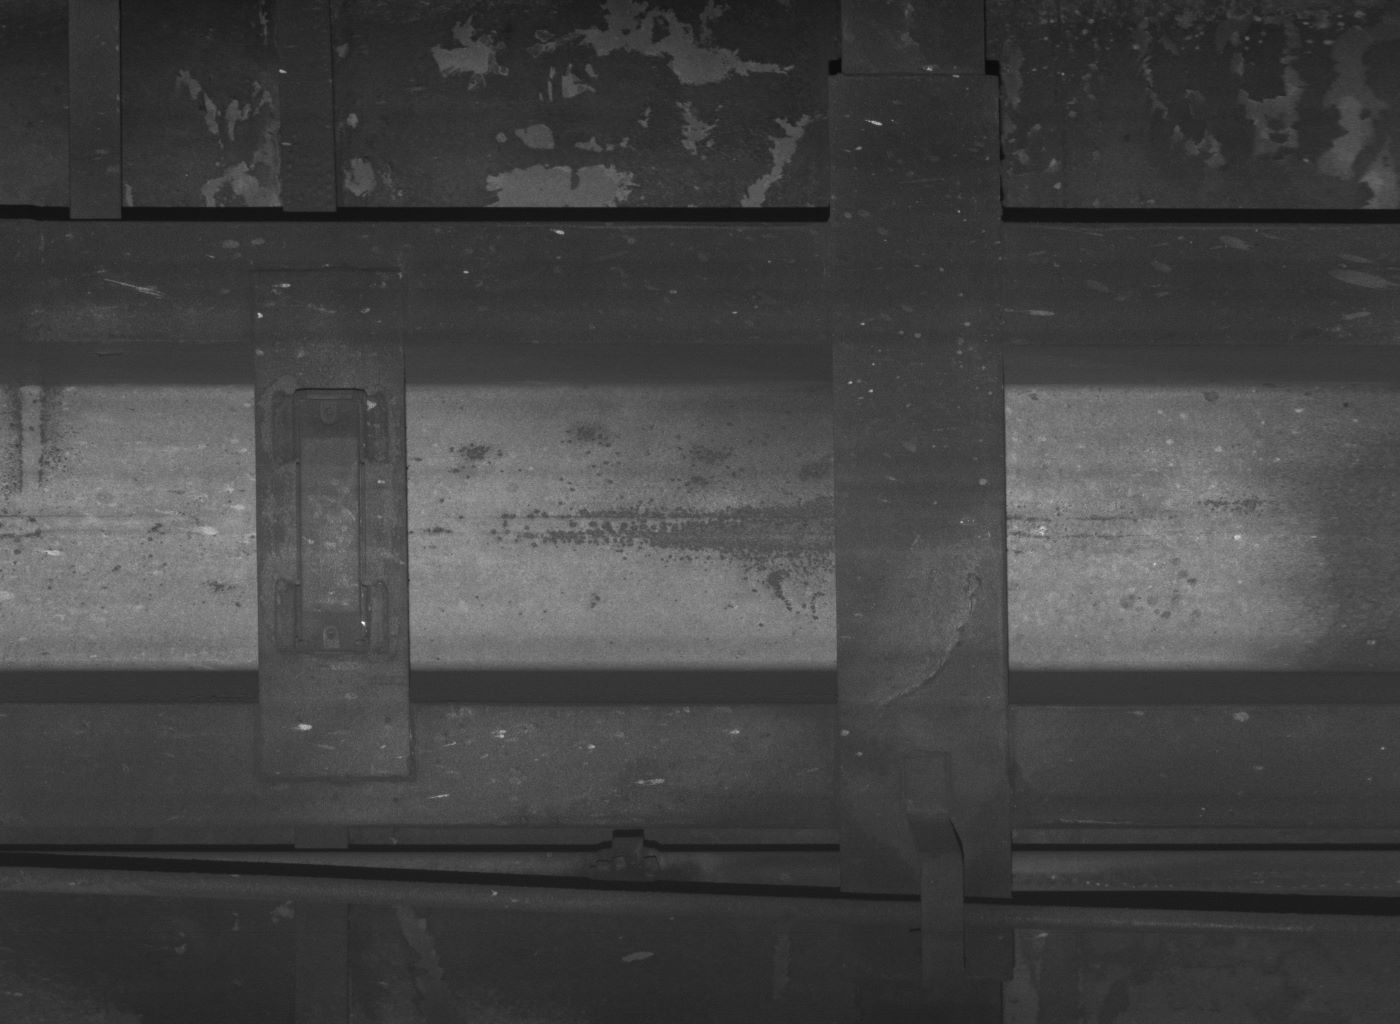normal: (908, 759, 968, 1002)
